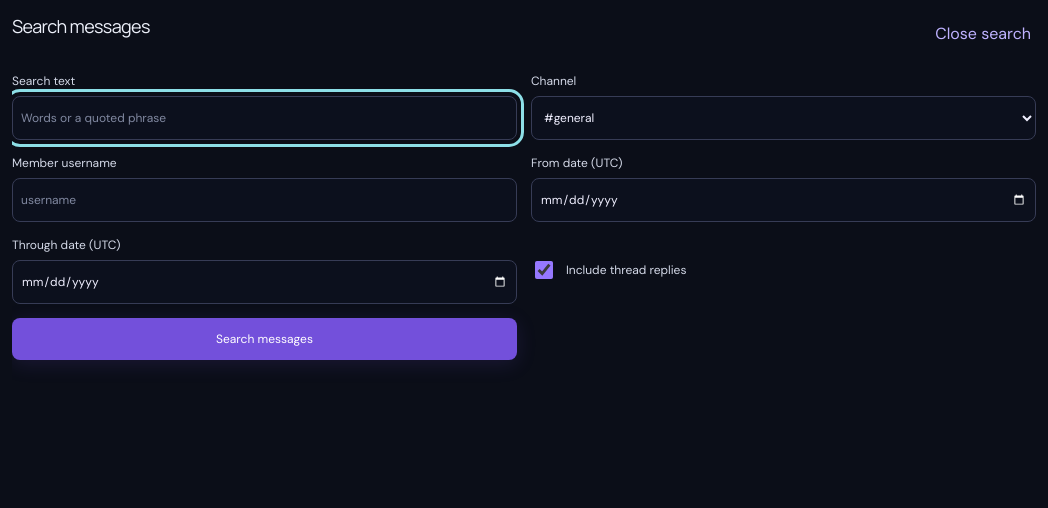
it: renders search snippets as text rather than executable HTML
The width and height of the screenshot is (1048, 508).
Type "comet" into the field labelled "Search text" at [264, 118], box [12,96,517,140]
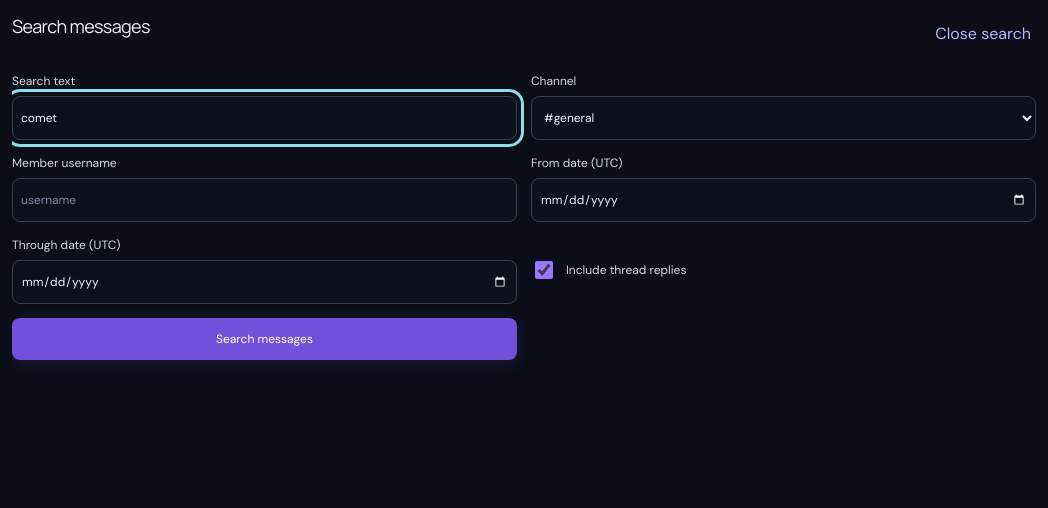
Click the button "Search messages" at [264, 339], box [12,318,517,360]
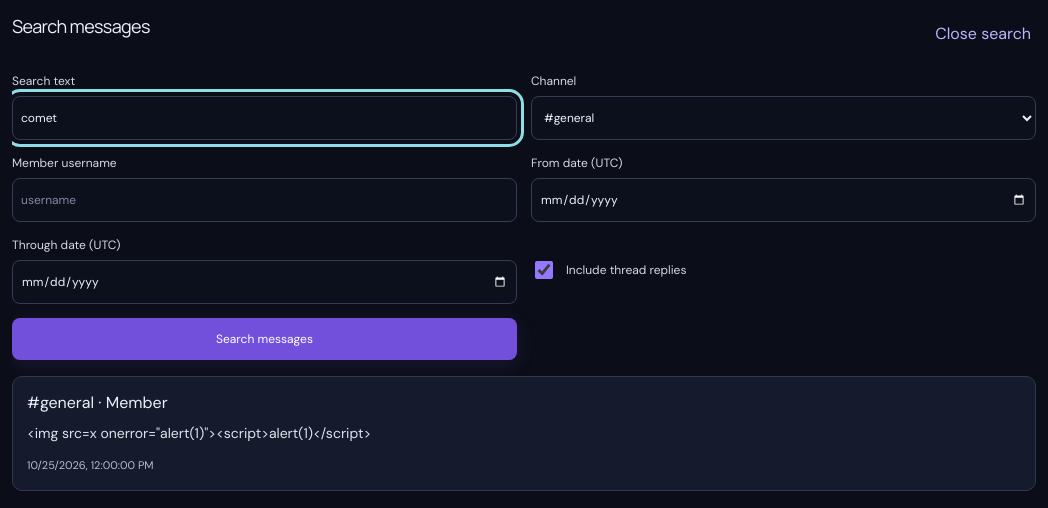
Expected: the text "<img src=x onerror=\"alert(1)\"><script>alert(1)</script>" is shown, [27,424,371,442]
